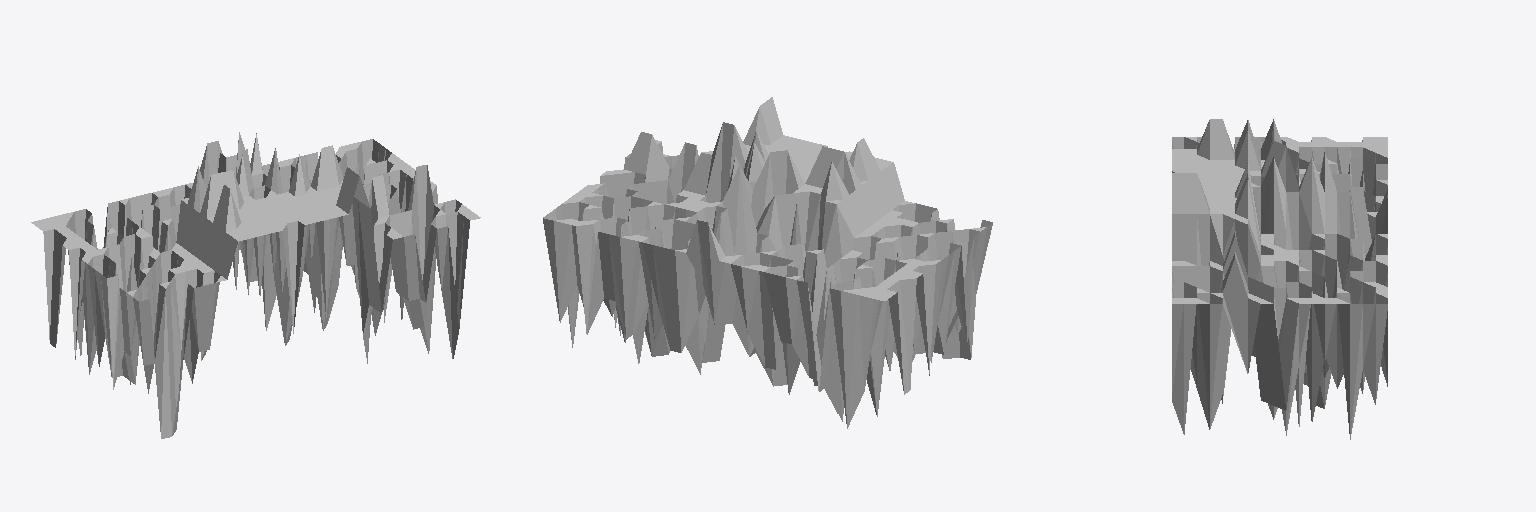
The model's file is volcano2.obj.
The picture shows the model from 3 angles: view 1: azimuth 30°, elevation 25°; view 2: azimuth 150°, elevation 25°; view 3: azimuth 270°, elevation 25°; orthographic projection.
Size of the model in its own units: 2 by 1.2 by 1.1.